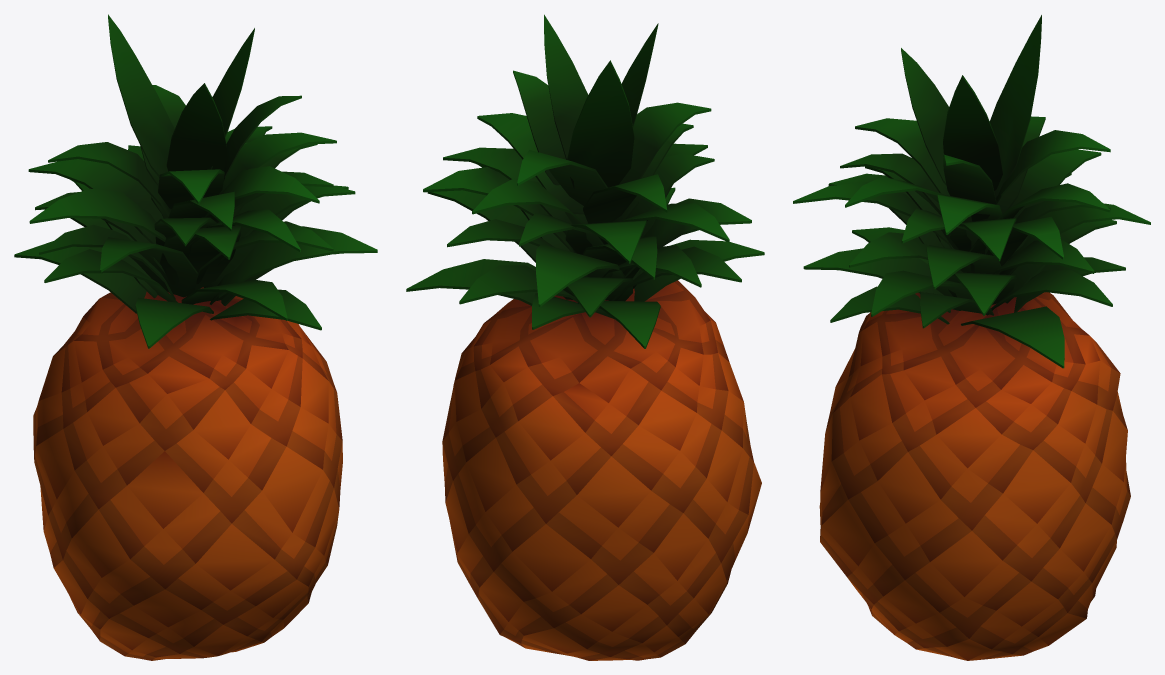
The model's file is Pineapple_Regular.fbx.
3 renders of one model, left to right at view 1: azimuth 30°, elevation 25°; view 2: azimuth 150°, elevation 25°; view 3: azimuth 270°, elevation 25°, orthographic. The views are drawn at different scales.
Visible parts, largest first — view 1: Pineapple_Regular; view 2: Pineapple_Regular; view 3: Pineapple_Regular.
Boxes of the visible parts, x1,y1,x2,y2 form: Pineapple_Regular: (14,14,377,660); Pineapple_Regular: (406,14,764,660); Pineapple_Regular: (793,15,1150,660).
Size of the model in its own units: 28.43 by 54.15 by 29.1.
